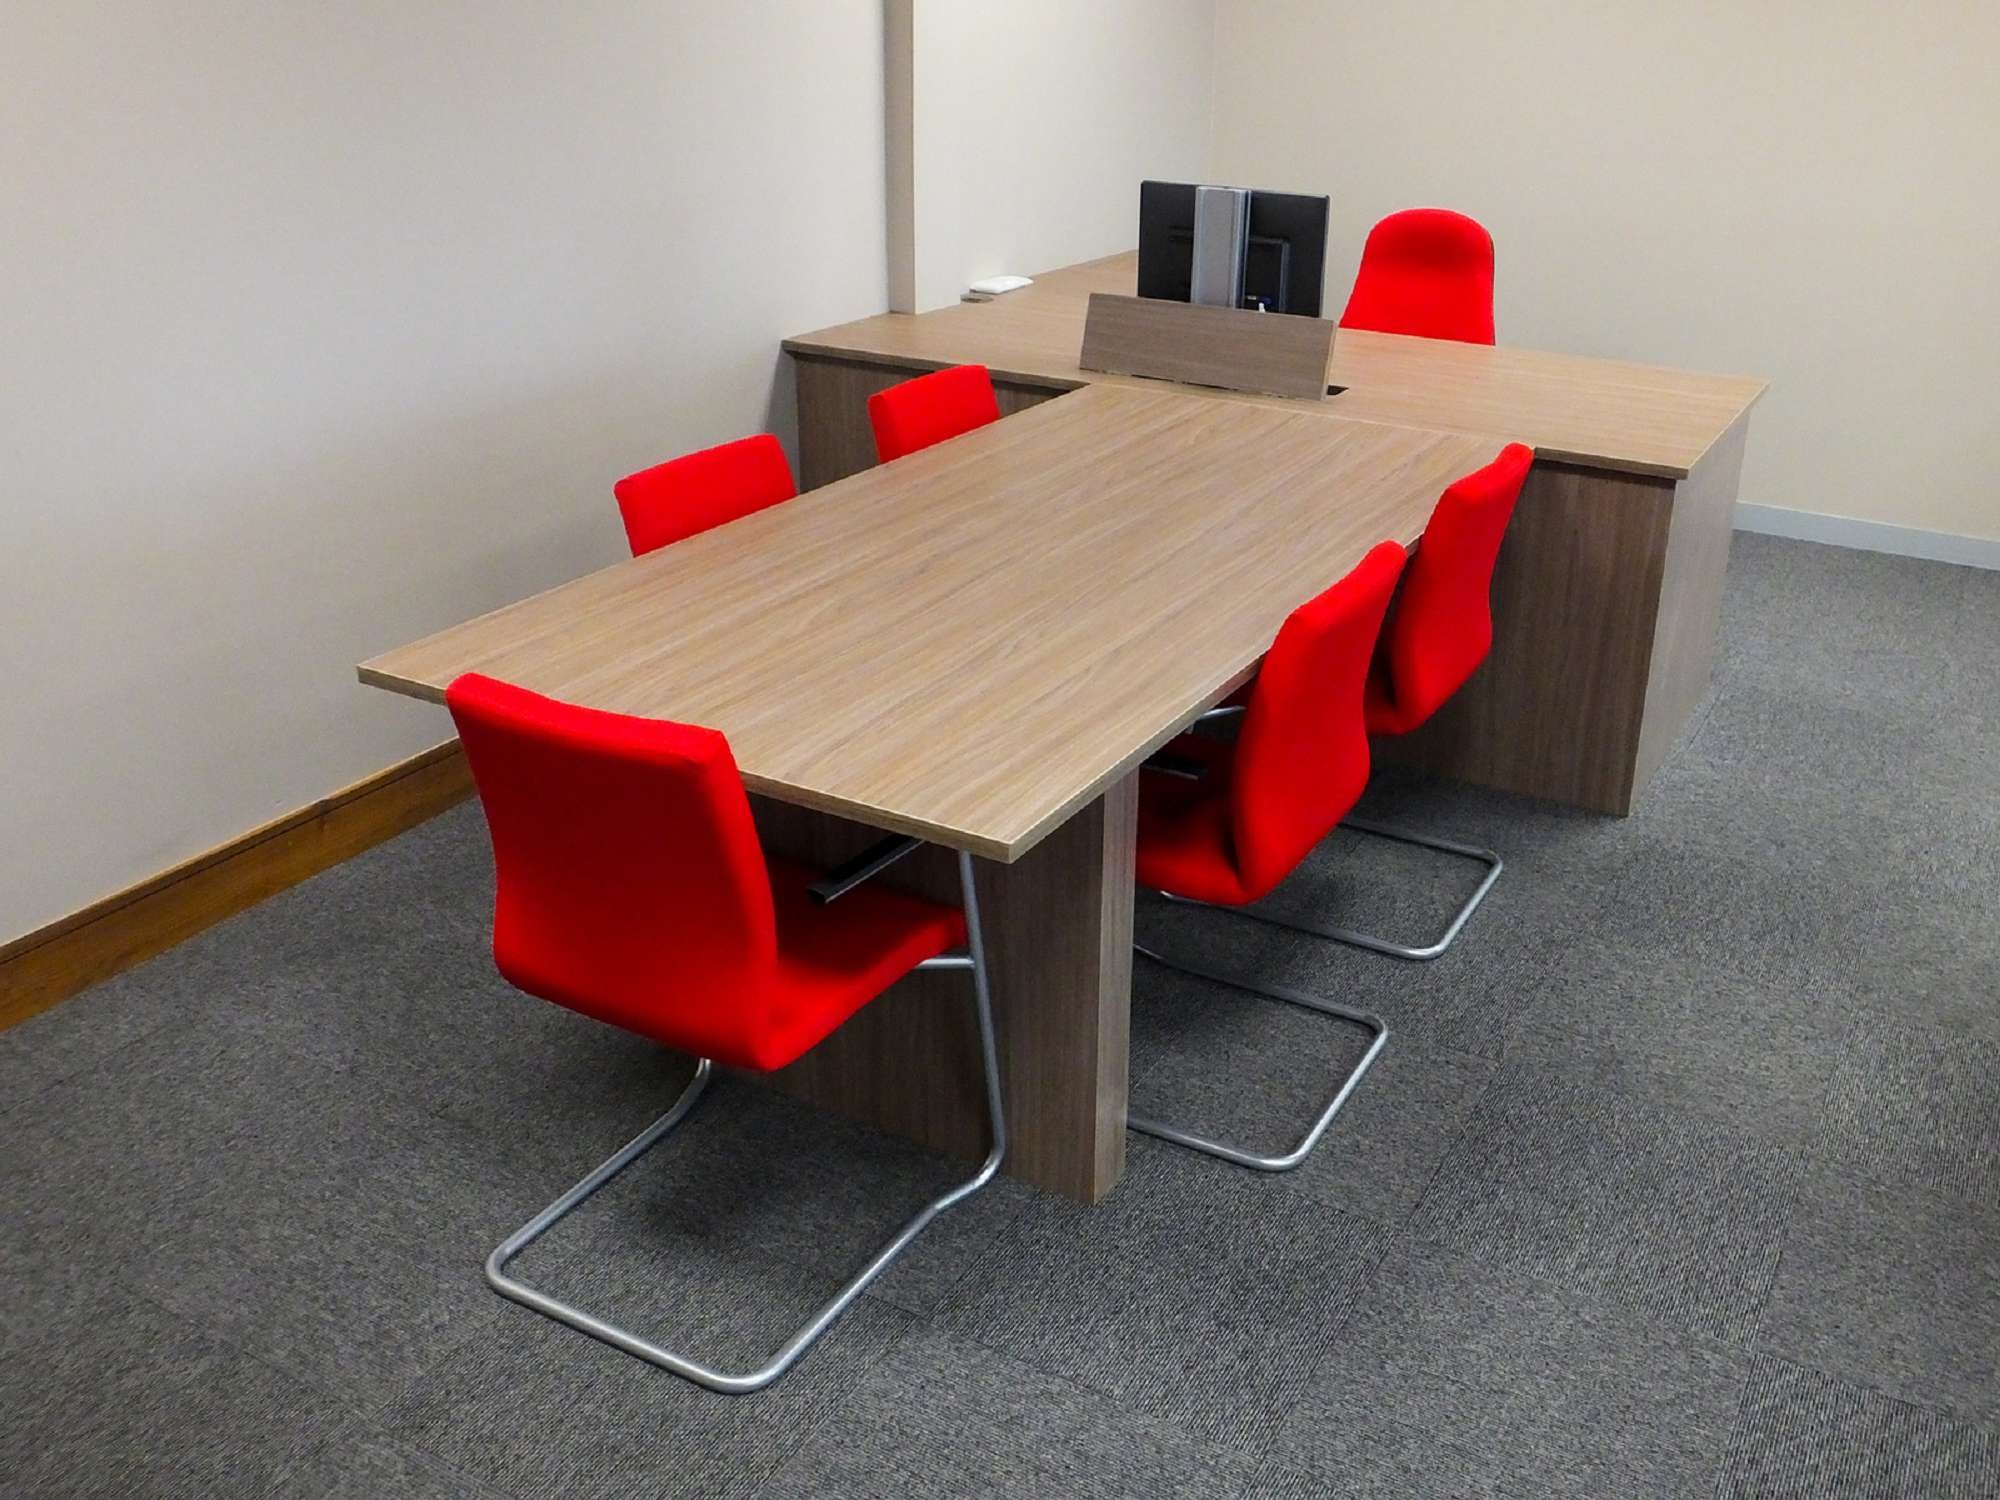conference_table: (354, 378, 1536, 1203), (778, 248, 1728, 818)
